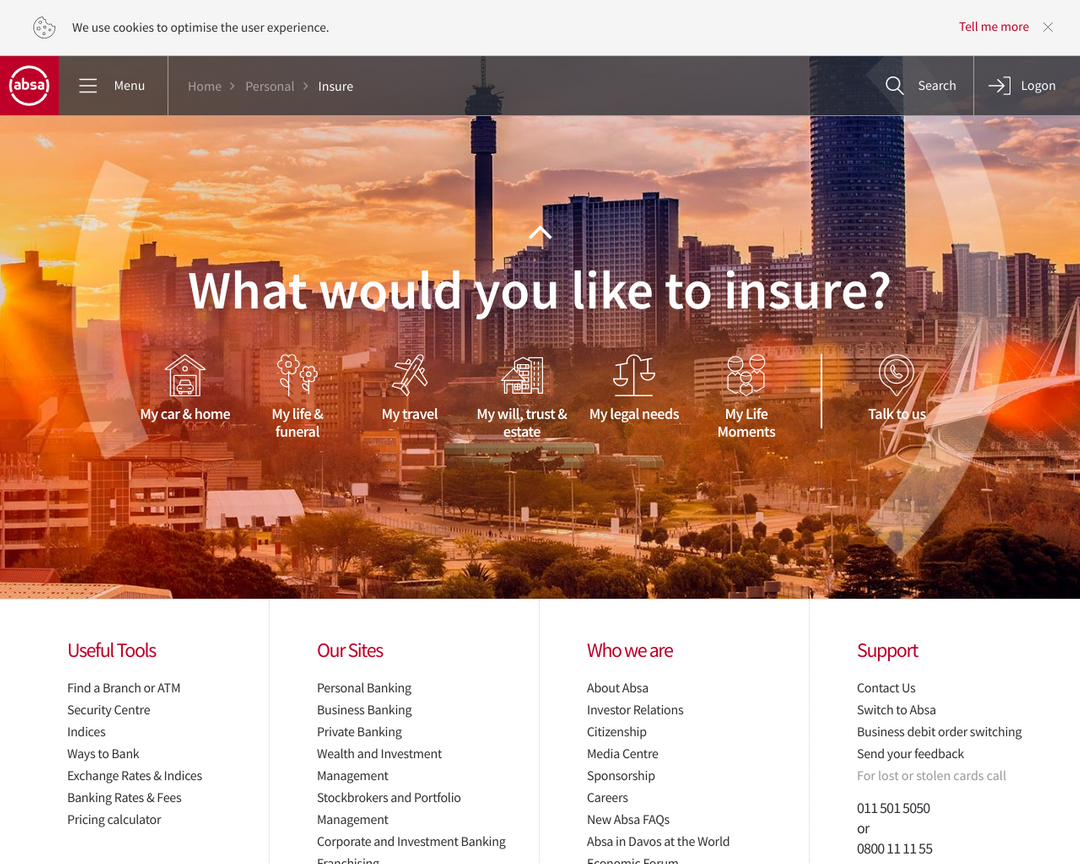ABSA: (7, 64, 52, 107)
